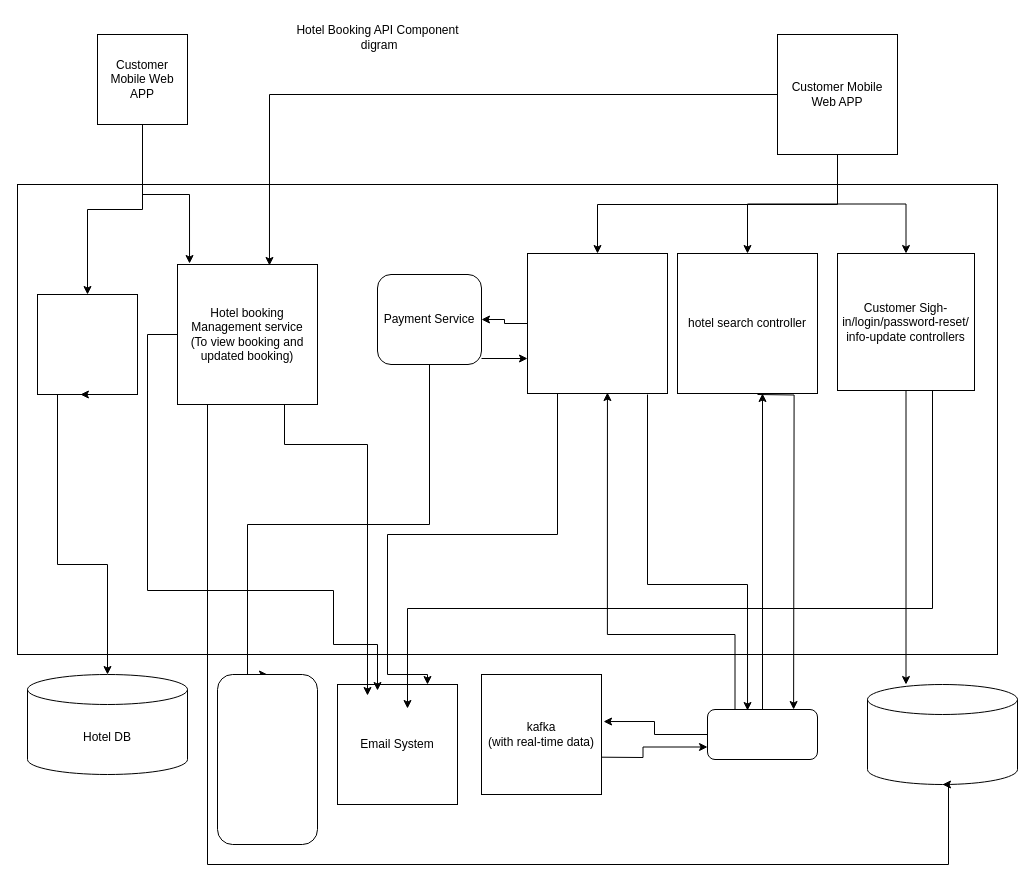
This 1035x890 diagram has some shape labels left out. The shapes that lost their labels are listed below. From the top down, each one's centre as x and y in pixels, then its label:
[597,323]: hotel booking controller
[87,344]: hotel Sigh-in/login/password-reset/ info-update controllers
[762,734]: Elastic Search
[942,734]: Hotel Booking DB
[267,759]: 3rd Party Payment Provider
